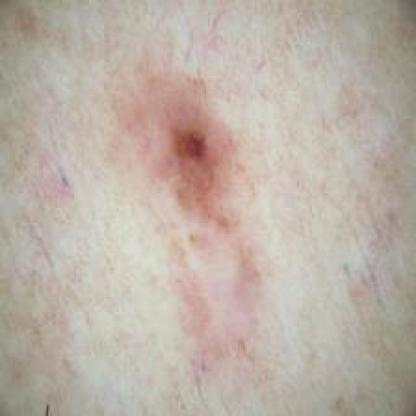malignant: (134, 65, 249, 217)
